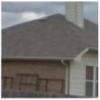chimneys: (66, 1, 85, 31)
